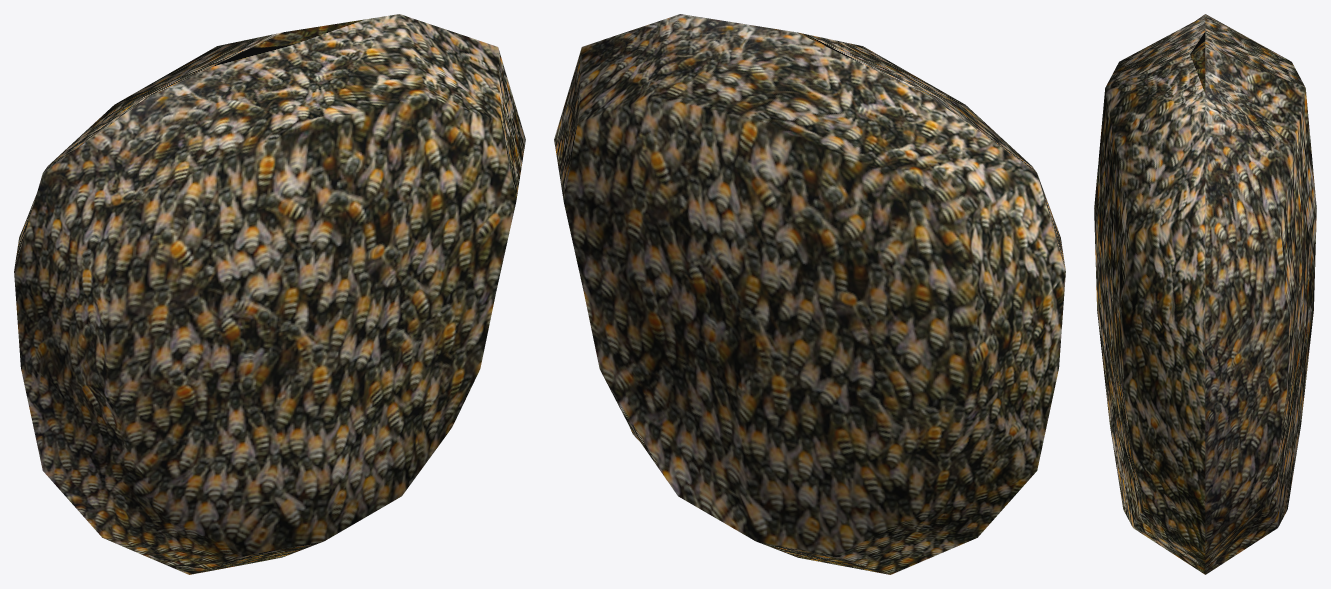
Rendered from bees1.fbx.
3 views of the same model, side by side, from view 1: azimuth 30°, elevation 25°; view 2: azimuth 150°, elevation 25°; view 3: azimuth 270°, elevation 25° (orthographic). The views are drawn at different scales.
Parts seen in each view (by area): view 1: bees1; view 2: bees1; view 3: bees1.
Boxes of the visible parts, x1,y1,x2,y2 form: bees1: (14,14,525,574); bees1: (554,14,1065,574); bees1: (1094,14,1316,574).
Bounding box in the file's own units: 601 × 589 × 234.
1 material, 1 textured.
